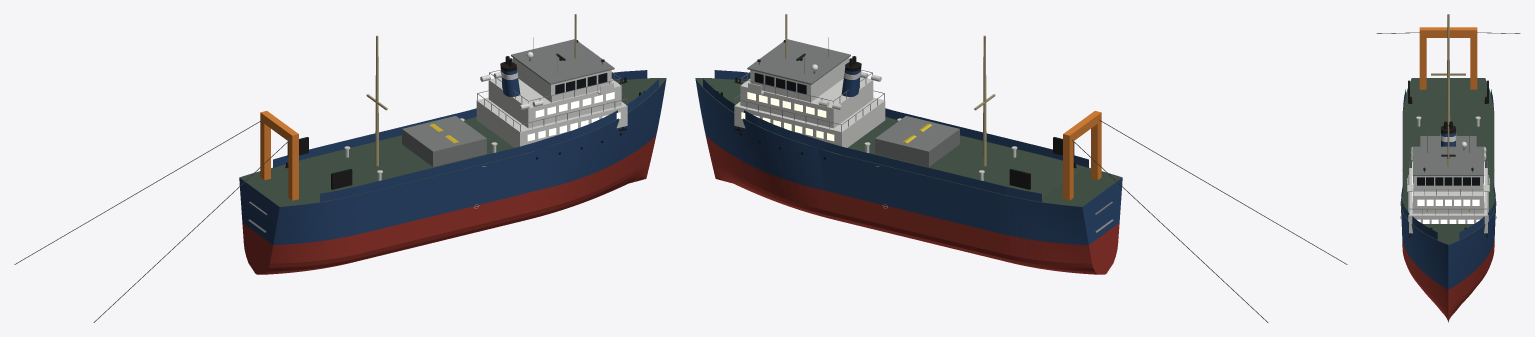
File: trawler60.glb
3 renders of one model, left to right at view 1: azimuth 30°, elevation 25°; view 2: azimuth 150°, elevation 25°; view 3: azimuth 270°, elevation 25°, orthographic. The views are drawn at different scales.
Visible parts, largest first — view 1: trawler60; view 2: trawler60; view 3: trawler60.
Boxes of the visible parts, bbox=[...] form: trawler60: bbox=[14, 14, 666, 322]; trawler60: bbox=[695, 14, 1347, 322]; trawler60: bbox=[1376, 14, 1520, 322].
Bounding box in the file's own units: 91.02 × 29.6 × 20.46.
